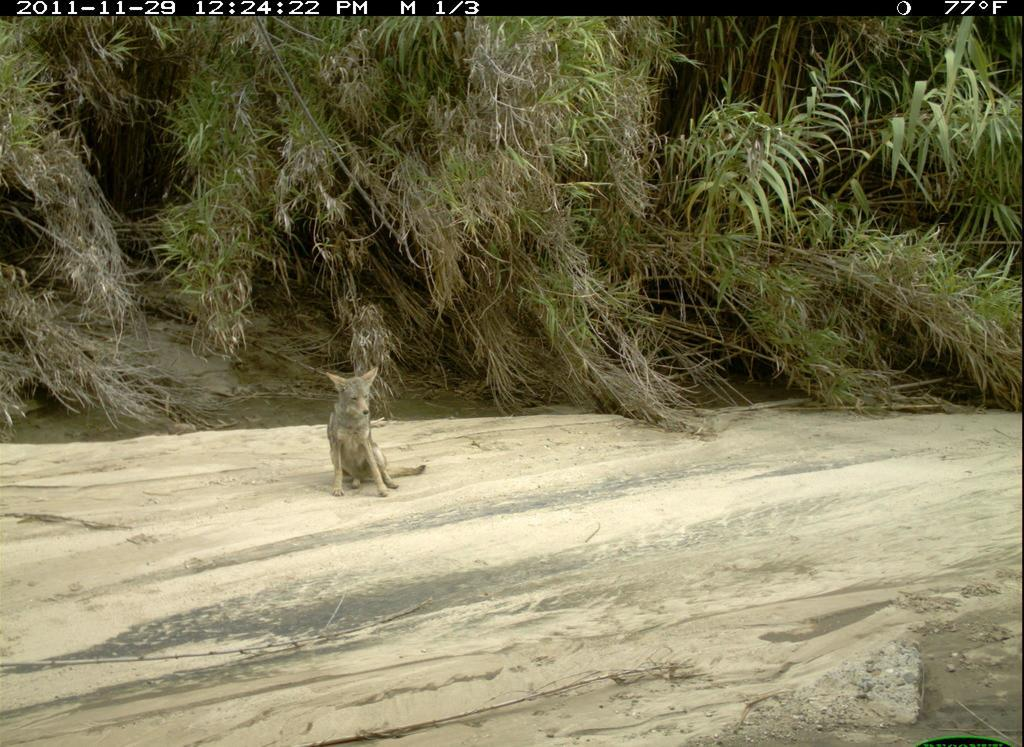coyote: (316, 355, 439, 509)
